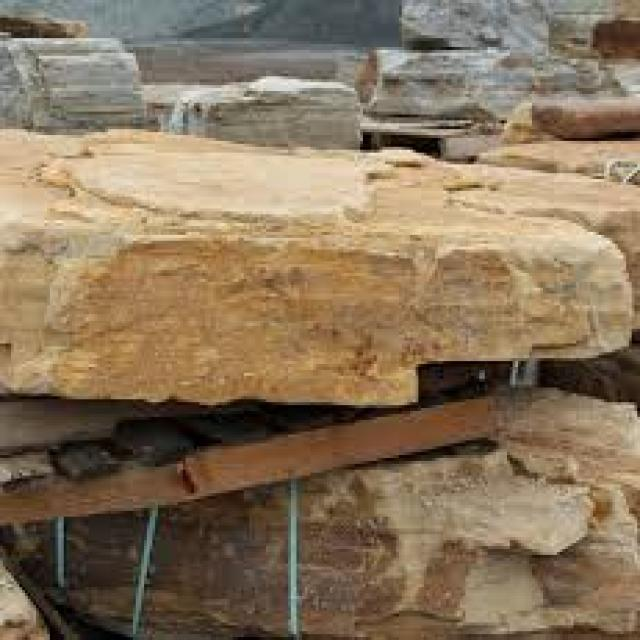Metamorphic: (2, 100, 632, 408)
